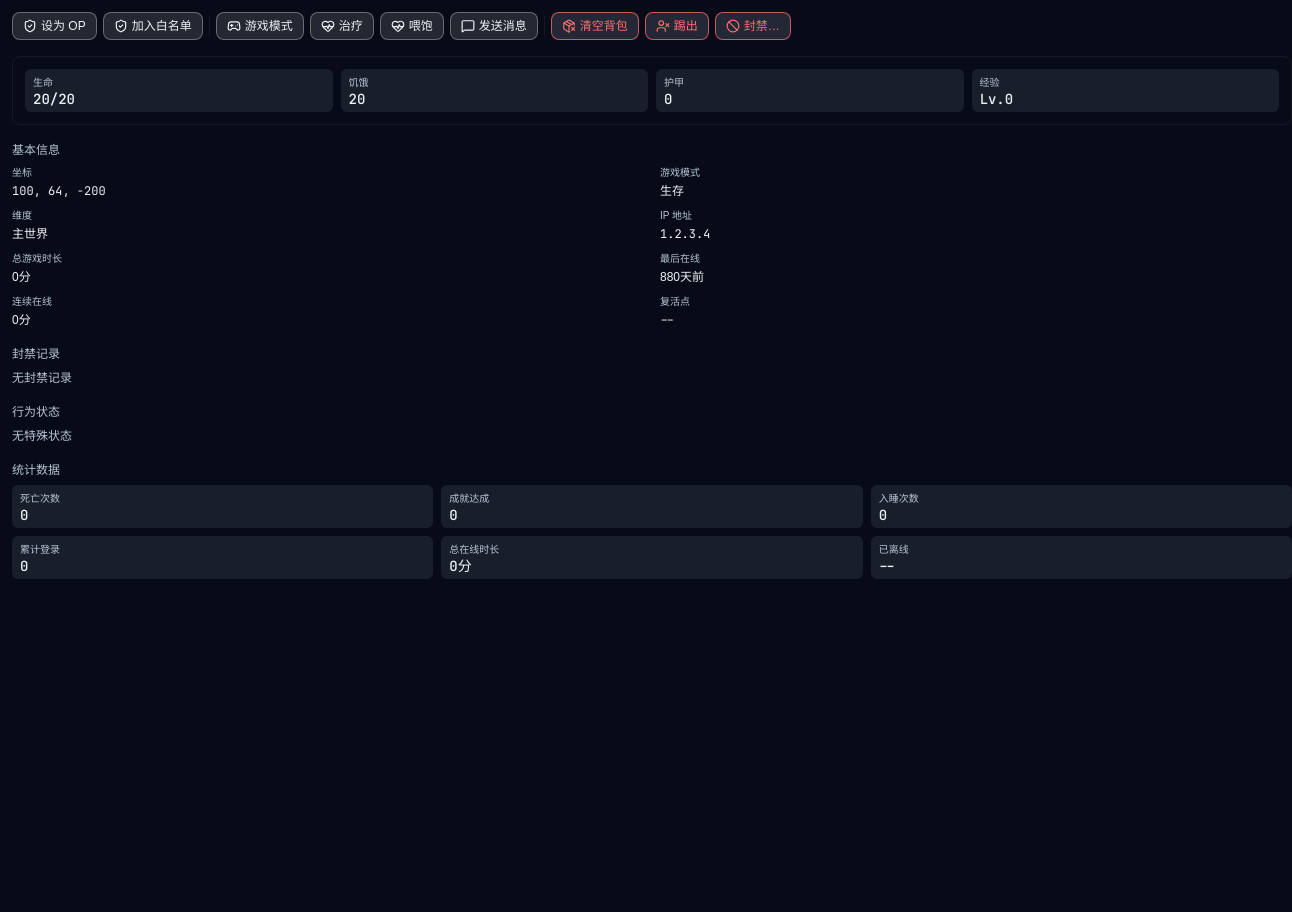
Test: OverviewTab 可逆操作：直执 + 撤销 › 设为 OP 直接执行（无确认弹窗），成功回执挂撤销入口，撤销恢复原状
What coordinates should you click on to do the following:
click the button "设为 OP"
I would click on:
 (54, 26)
Its box is [12, 12, 97, 40].
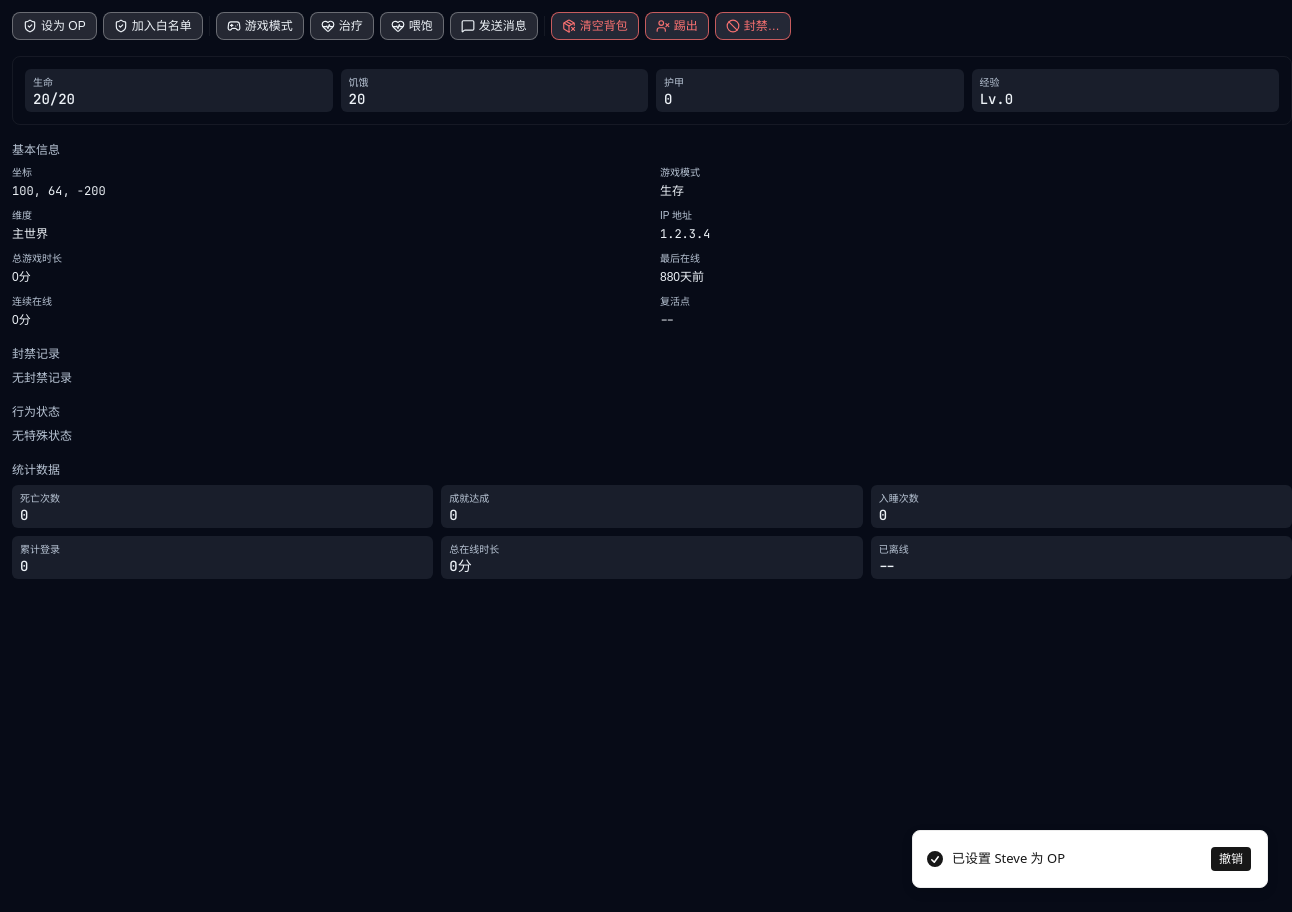
Expected: the text "已设置 Steve 为 OP" is shown, [952, 849, 1065, 869]
What coordinates should you click on to do the following:
click the button "撤销"
I would click on:
 (1231, 859)
Its box is [1211, 847, 1251, 871].
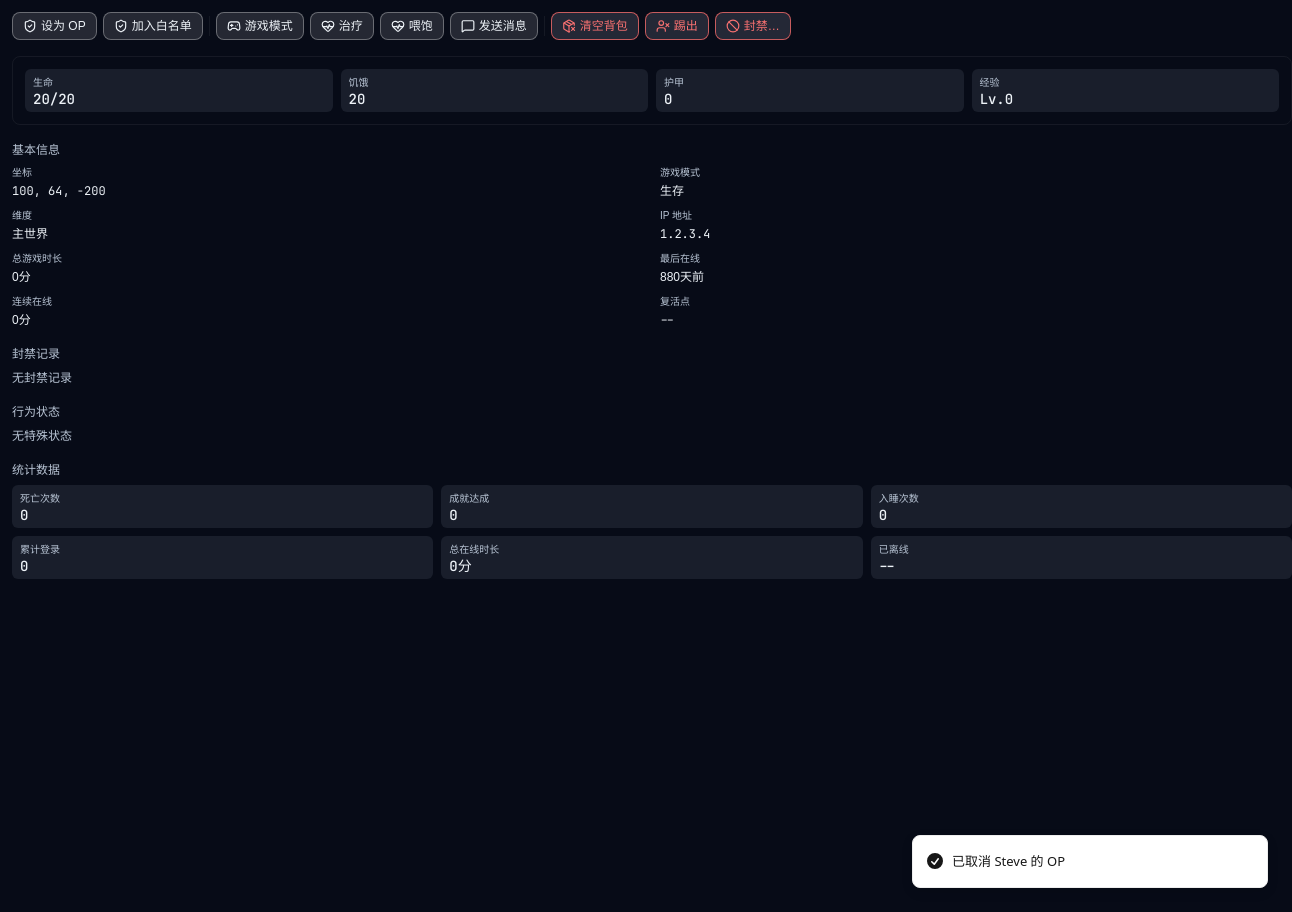
Expected: the text "已取消 Steve 的 OP" is shown, [952, 852, 1065, 871]
